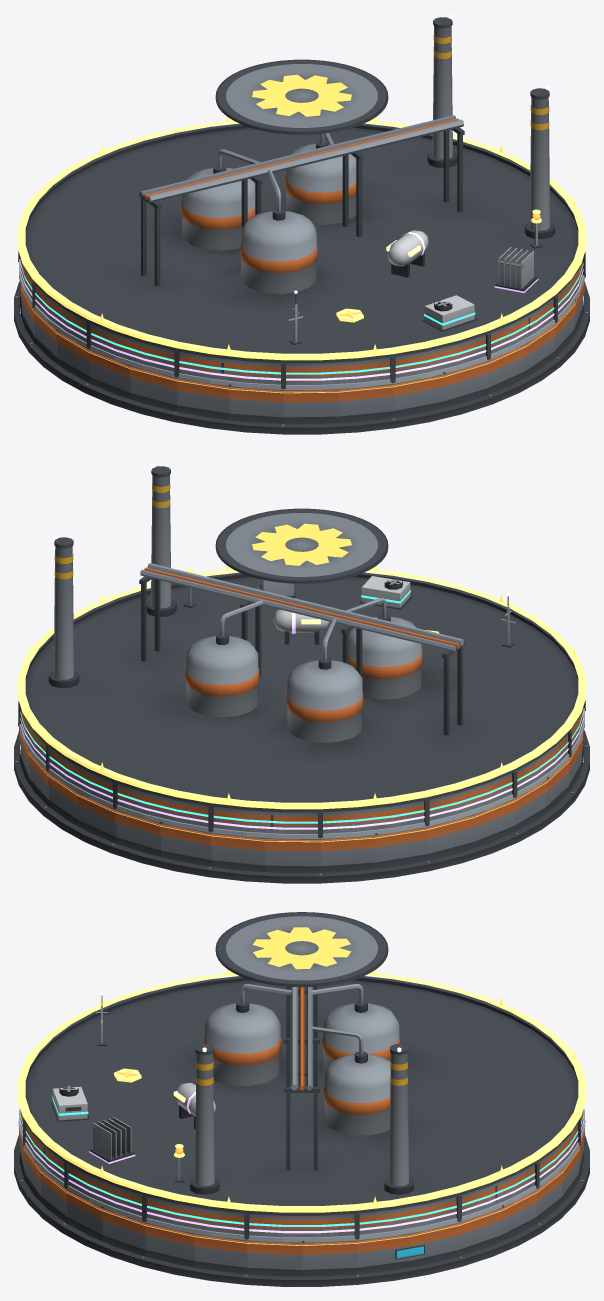
Rendered from polymer_plant_l.glb.
3 renders of one model, top to bottom at view 1: azimuth 30°, elevation 25°; view 2: azimuth 150°, elevation 25°; view 3: azimuth 270°, elevation 25°, orthographic.
Parts seen in each view (by area): view 1: Roof, Base, L4, Wall_20, Wall_21, Wall_22, Wall_19, Wall_23, Wall_18, Wall_24, Wall_17, L3 (+18 smaller); view 2: Roof, Base, Wall_11, Wall_10, Wall_09, Wall_12, Wall_08, Wall_13, Wall_07, L4, Wall_14, Wall_06 (+17 smaller); view 3: Roof, Base, L4, Wall_00, Wall_31, Wall_30, Wall_01, Wall_29, Wall_02, Wall_28, Wall_03, Wall_04 (+20 smaller).
Part boxes in pixels (x1,y1,x2,y2): Roof: (24,14,579,363); Base: (14,281,589,434); L4: (386,230,538,292); Wall_20: (228,384,283,423); Wall_21: (283,389,338,423); Wall_22: (338,384,392,422); Wall_19: (176,378,228,419); Wall_23: (392,374,443,417); Wall_18: (129,365,177,411); Wall_24: (443,361,488,407); Wall_17: (89,350,130,398); L3: (422,295,477,331); Roof: (24,463,579,812); Base: (14,730,589,883); Wall_11: (320,835,375,872); Wall_10: (265,838,320,872); Wall_09: (211,833,265,871); Wall_12: (375,827,427,868); Wall_08: (160,821,211,866); Wall_13: (426,814,474,860); Wall_07: (115,810,160,856); L4: (258,579,329,644); Wall_14: (473,799,514,847); Wall_06: (77,793,115,843); Roof: (24,912,579,1215); Base: (14,1135,589,1286); L4: (89,1083,216,1163); Wall_00: (302,1240,357,1276); Wall_31: (246,1240,301,1276); Wall_30: (193,1233,246,1274); Wall_01: (357,1233,410,1274); Wall_29: (144,1222,193,1267); Wall_02: (410,1222,459,1267); Wall_28: (101,1206,145,1256); Wall_03: (458,1208,502,1256); Wall_04: (501,1190,537,1241).
Size of the model in its own units: 18.96 by 7.88 by 18.96.
